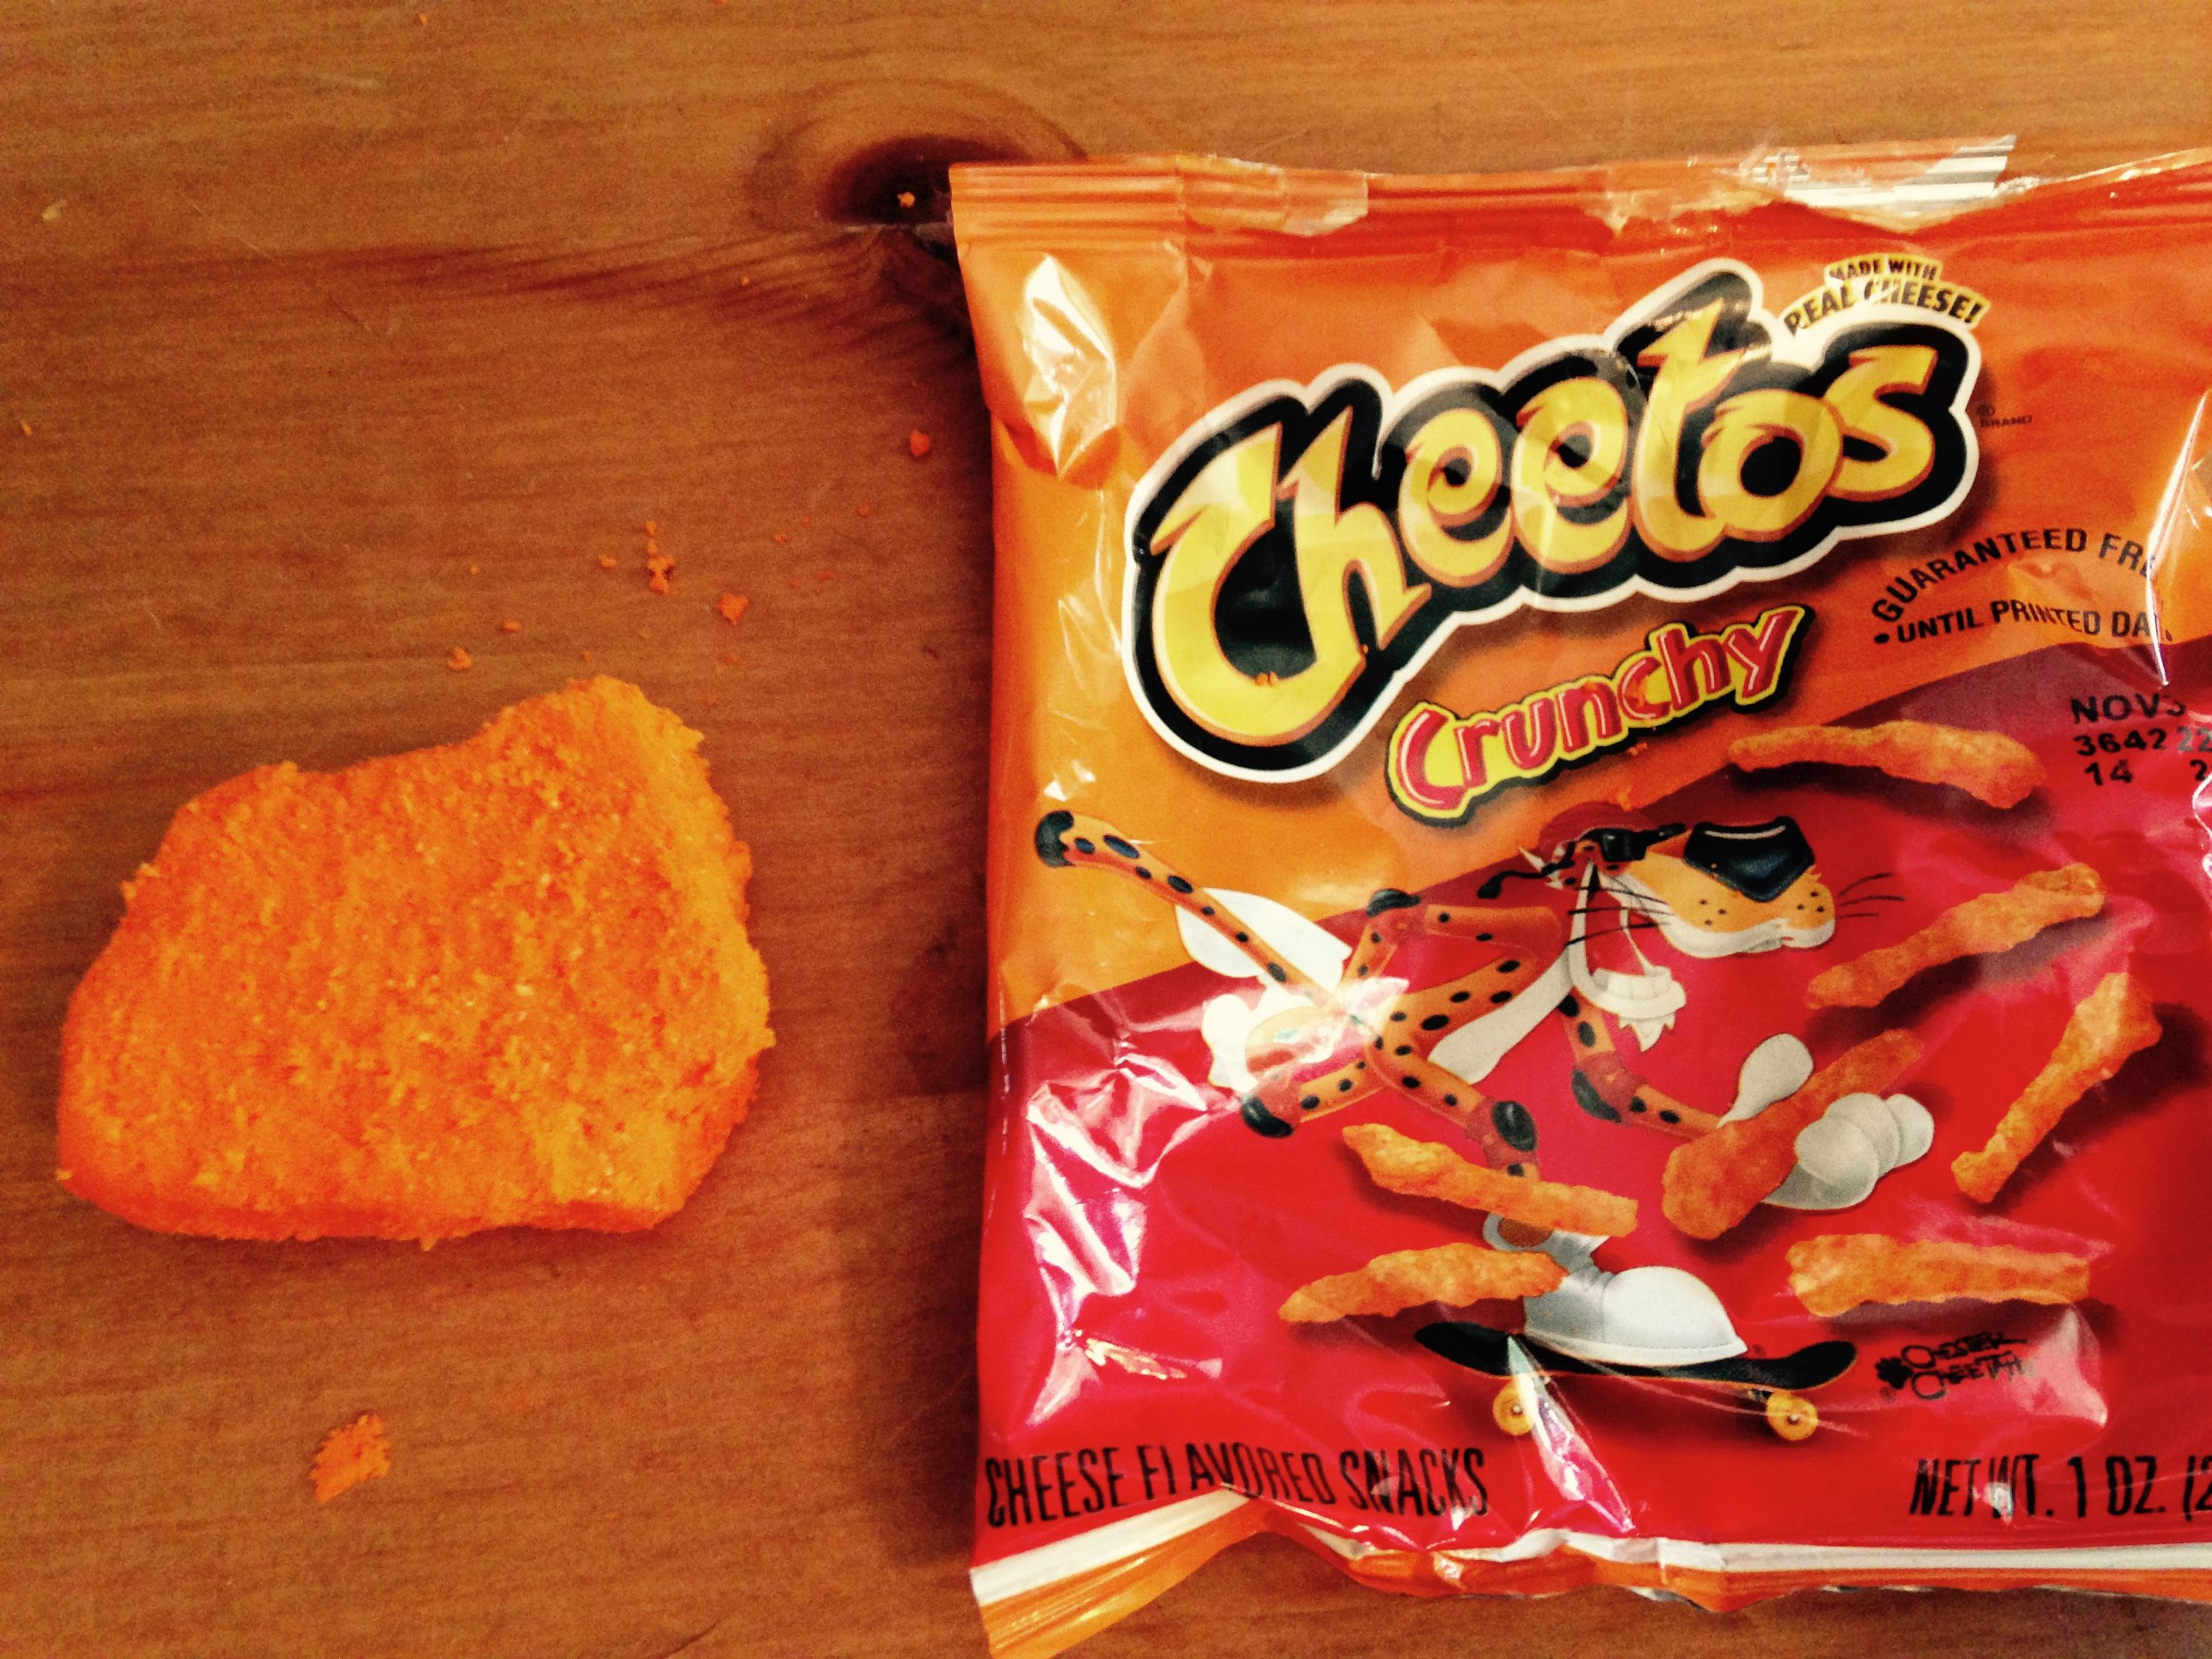cheetos: (948, 160, 2198, 1603)
